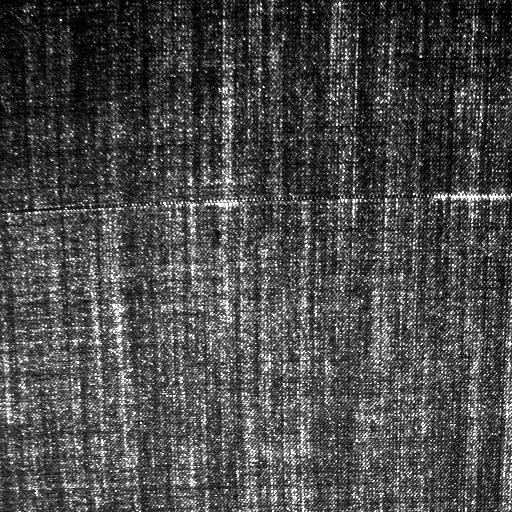fabric_broken_pick: (16, 189, 512, 215)
